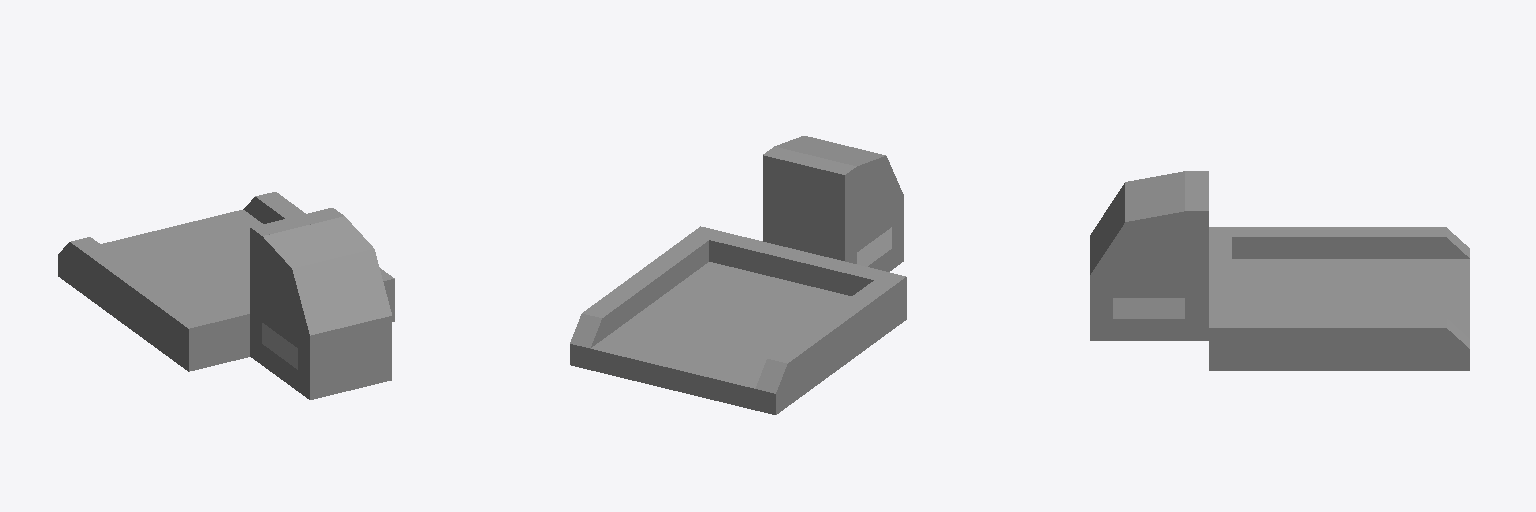
The model's file is ATLAS.obj.
3 views of the same model, side by side, from view 1: azimuth 30°, elevation 25°; view 2: azimuth 150°, elevation 25°; view 3: azimuth 270°, elevation 25° (orthographic).
Visible parts, largest first — view 1: Body_Cube.004, WindShield_Cube.009, RGlass_Cube.006, RDoor_Cube.002; view 2: Body_Cube.004, WindShield_Cube.009, RGlass_Cube.006, RDoor_Cube.002; view 3: Body_Cube.004, WindShield_Cube.009, LGlass_Cube.007, LDoor_Cube.003.
Boxes of the visible parts, box(x1,y1,x2,y2) form: Body_Cube.004: box(58, 192, 394, 399); WindShield_Cube.009: box(262, 216, 391, 356); RGlass_Cube.006: box(262, 258, 297, 347); RDoor_Cube.002: box(262, 323, 297, 369); Body_Cube.004: box(570, 146, 906, 414); WindShield_Cube.009: box(775, 136, 903, 226); RGlass_Cube.006: box(857, 171, 891, 251); RDoor_Cube.002: box(857, 227, 891, 266); Body_Cube.004: box(1090, 171, 1469, 370); WindShield_Cube.009: box(1090, 171, 1184, 297); LGlass_Cube.007: box(1113, 233, 1184, 297); LDoor_Cube.003: box(1113, 298, 1184, 318).
Size of the model in its own units: 10 by 6 by 16.